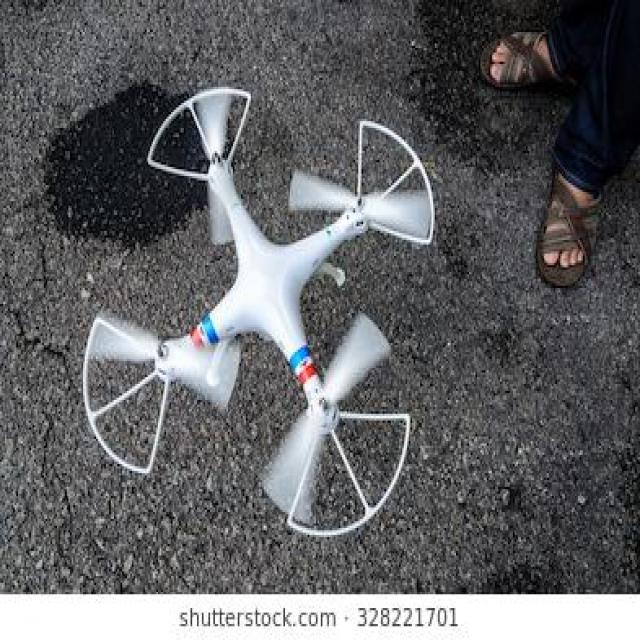drone: (21, 78, 476, 544)
